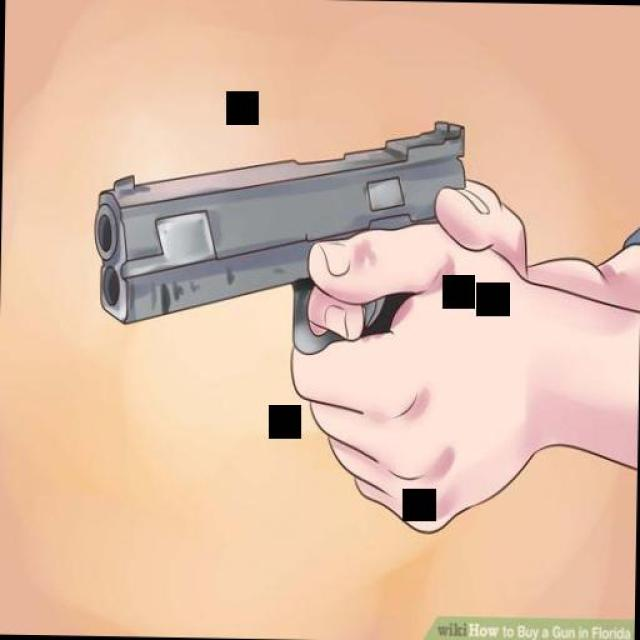gun: (90, 112, 466, 358)
